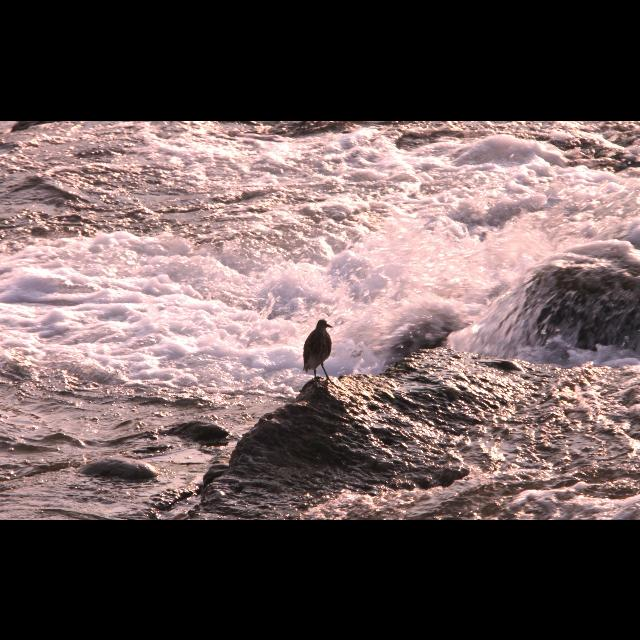heron: (298, 314, 338, 384)
